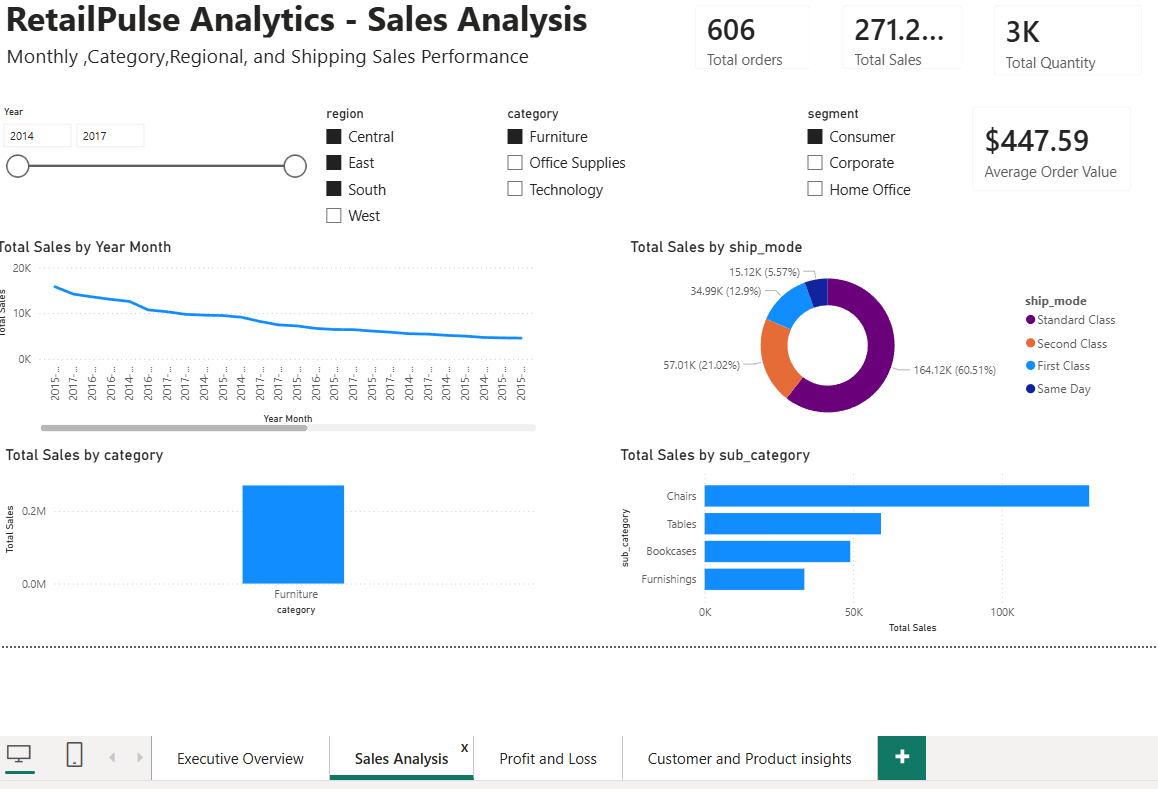

This screenshot's page, from the dashboard's own definition file:
{"tool":"powerbi","page":{"name":"Sales Analysis","canvas":[1280,720],"ordinal":1},"visuals":[{"type":"textbox","box":[9.6,0,687.5,63.1],"z":0},{"type":"textbox","box":[11,52.1,687.5,48],"z":1000},{"type":"slicer","fields":{"Values":["DataTable.Year"]},"box":[0,122.1,354,116.6],"z":2000},{"type":"slicer","fields":{"Values":["orders.region"]},"box":[354,122.1,199,149.6],"z":3000},{"type":"slicer","fields":{"Values":["orders.category"]},"box":[553,122.1,310.1,149.6],"z":4000},{"type":"slicer","fields":{"Values":["orders.segment"]},"box":[882.3,122.1,177,149.6],"z":5000},{"type":"cardVisual","fields":{"Data":["orders.Total Sales"]},"box":[916.6,0,166,104.3],"z":6000},{"type":"cardVisual","fields":{"Data":["orders.Total orders"]},"box":[754.7,0,161.9,104.3],"z":7000},{"type":"cardVisual","fields":{"Data":["orders.Total Quantity"]},"box":[1082.7,0,197.6,111.1],"z":8000},{"type":"cardVisual","fields":{"Data":["orders.Average Order Value"]},"box":[1059.4,111.1,208.6,127.6],"z":9000},{"type":"lineChart","fields":{"Category":["DataTable.Year Month"],"Y":["orders.Total Sales"]},"box":[0,271.7,602.4,218.2],"z":10000},{"type":"clusteredColumnChart","fields":{"Category":["orders.category"],"Y":["orders.Total Sales"]},"box":[9.6,499.5,594.2,192.1],"z":11000},{"type":"barChart","fields":{"Category":["orders.sub_category"],"Y":["orders.Total Sales"]},"box":[684.7,499.5,573.6,211.3],"z":12000},{"type":"donutChart","fields":{"Category":["orders.ship_mode"],"Y":["orders.Total Sales"]},"box":[695.7,271.7,551.6,218.2],"z":13000}]}

Visuals, with their boxes on the page's 1280x720 design canvas (x1, y1, x2, y2). These are canvas units, not pixel positions in the 1158x789 screenshot, which may show the page scaled, cropped or inside an application window:
textbox: (10,0,697,63)
textbox: (11,52,698,100)
slicer - DataTable.Year: (0,122,354,239)
slicer - orders.region: (354,122,553,272)
slicer - orders.category: (553,122,863,272)
slicer - orders.segment: (882,122,1059,272)
cardVisual - orders.Total Sales: (917,0,1083,104)
cardVisual - orders.Total orders: (755,0,917,104)
cardVisual - orders.Total Quantity: (1083,0,1280,111)
cardVisual - orders.Average Order Value: (1059,111,1268,239)
lineChart - DataTable.Year Month x orders.Total Sales: (0,272,602,490)
clusteredColumnChart - orders.category x orders.Total Sales: (10,500,604,692)
barChart - orders.sub_category x orders.Total Sales: (685,500,1258,711)
donutChart - orders.ship_mode x orders.Total Sales: (696,272,1247,490)
